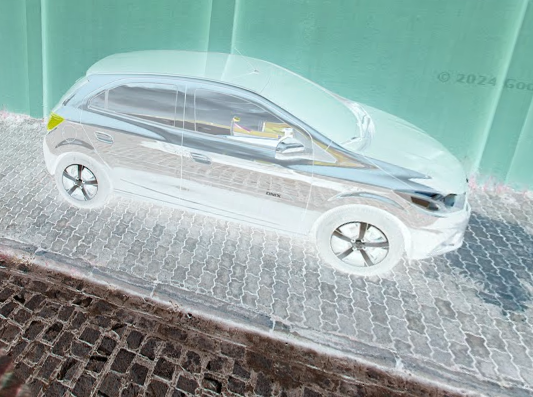car: (40, 41, 473, 278)
